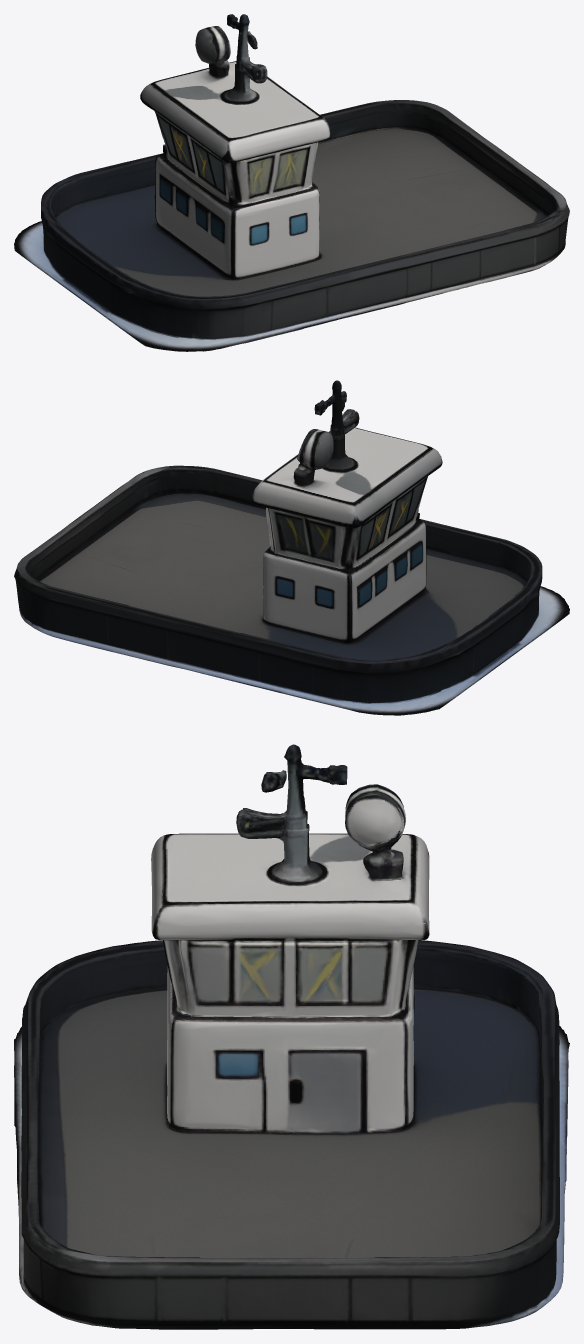
Rendered from space-barge.glb.
3 views of the same model, one above another, from view 1: azimuth 30°, elevation 25°; view 2: azimuth 150°, elevation 25°; view 3: azimuth 270°, elevation 25° (orthographic). The views are drawn at different scales.
Visible parts, largest first — view 1: geometry_0; view 2: geometry_0; view 3: geometry_0.
Part boxes in pixels (x1,y1,x2,y2): geometry_0: [14, 14, 569, 351]; geometry_0: [14, 380, 569, 715]; geometry_0: [14, 744, 569, 1329].
Size of the model in its own units: 1 by 0.5469 by 0.7119.
1 material, 1 textured.
